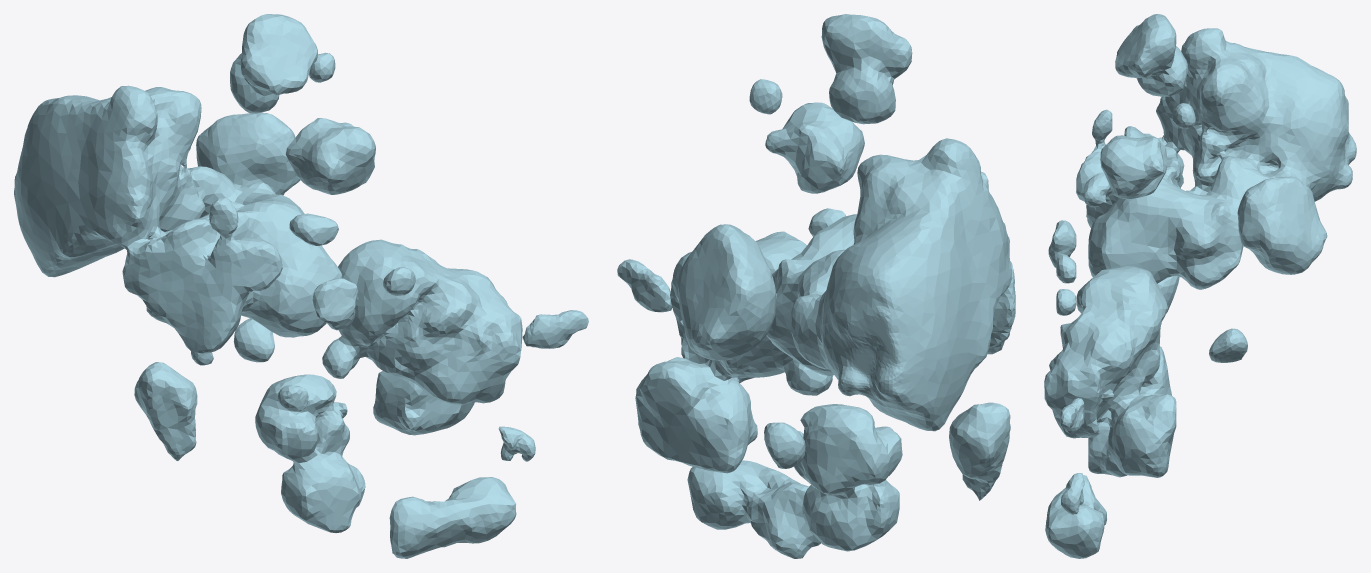
The model's file is livertumor.obj.
3 renders of one model, left to right at view 1: azimuth 30°, elevation 25°; view 2: azimuth 150°, elevation 25°; view 3: azimuth 270°, elevation 25°, orthographic. The views are drawn at different scales.
Visible parts, largest first — view 1: grp1; view 2: grp1; view 3: grp1.
Part boxes in pixels (x1,y1,x2,y2): grp1: (14, 14, 588, 558); grp1: (617, 14, 1015, 558); grp1: (1044, 14, 1356, 558).
Bounding box in the file's own units: 174 × 208 × 125.
